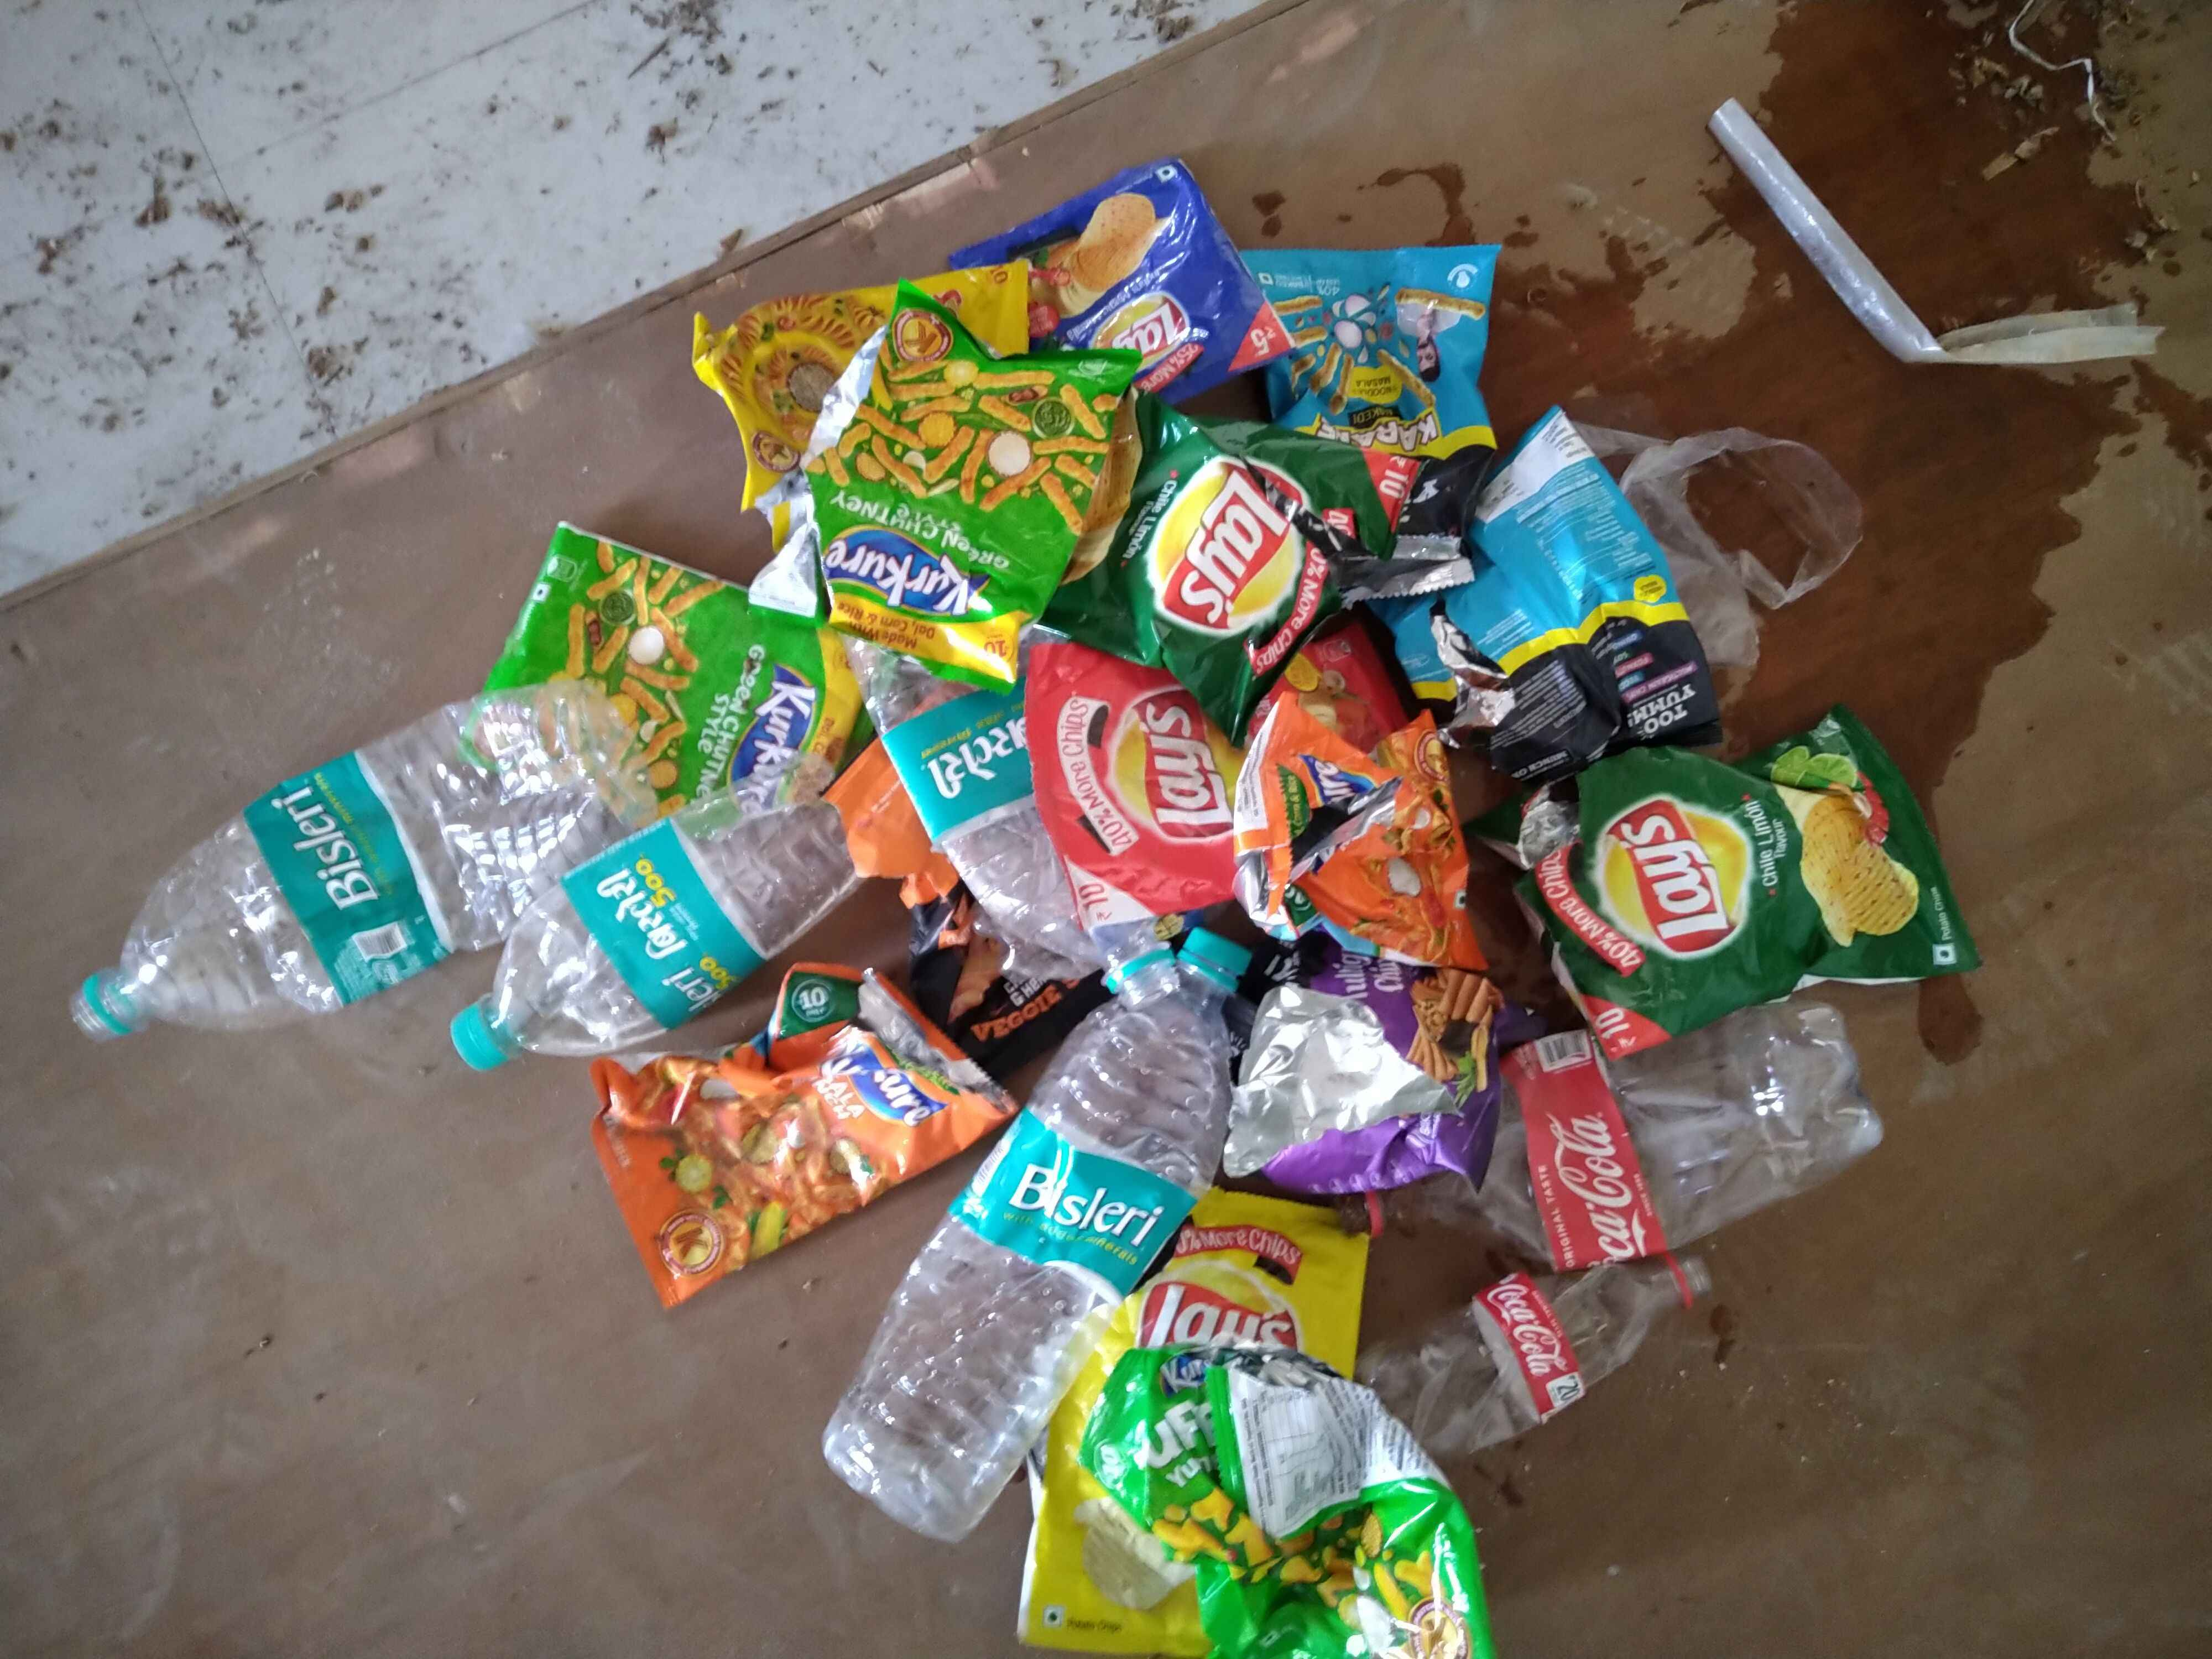Bisleri: (277, 748, 437, 985), (603, 843, 754, 1019), (1007, 1140, 1163, 1274), (813, 521, 1007, 617), (918, 708, 1049, 817)
Coca-Cola: (1531, 1070, 1669, 1265), (1298, 732, 1411, 868), (1500, 1276, 1588, 1419)
Lays: (1583, 786, 1787, 971), (1141, 453, 1339, 640), (1118, 683, 1270, 863), (1139, 1263, 1315, 1368), (1076, 289, 1193, 371)
kurkure: (841, 1007, 968, 1147), (725, 647, 799, 798), (1158, 1338, 1312, 1396)
tooyumm: (1609, 669, 1712, 730), (1404, 476, 1458, 542)
